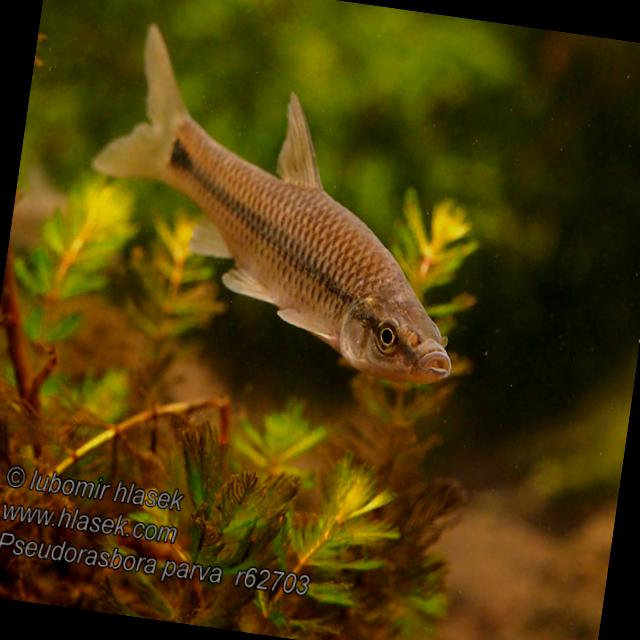Cakil Baligi: (61, 8, 500, 396)
